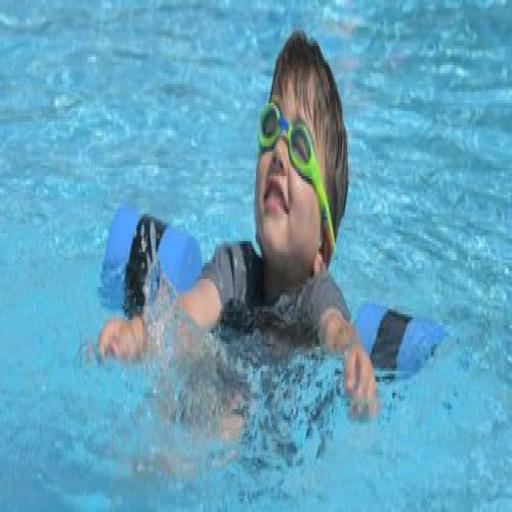swimming: (110, 44, 370, 476)
